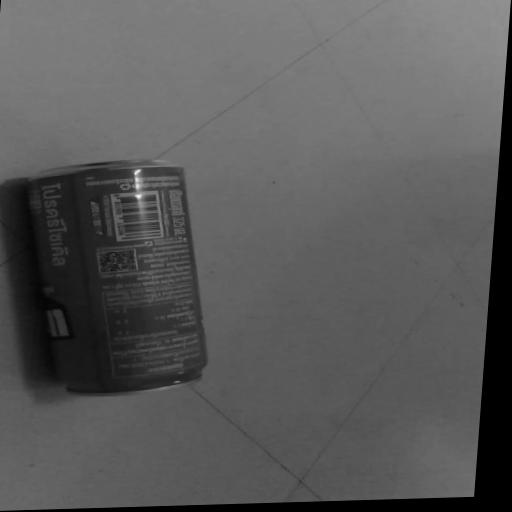canned: (0, 137, 239, 418)
